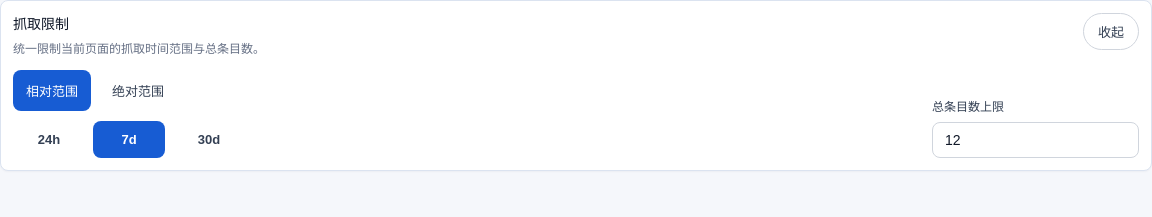
Scenario: RunLimitCard › switches between relative and absolute time modes
The width and height of the screenshot is (1152, 217).
Expected: the text "开始日期" is not shown
Click the button "绝对范围" at (138, 90), box [99,70,177,111]
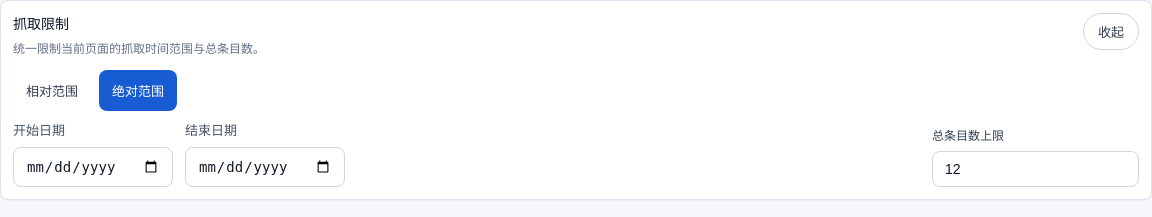
Expected: the text "开始日期" is shown, [13,121,65,139]
Expected: the text "结束日期" is shown, [185,121,237,139]
Expected: the text "24h" is gone
Click the button "相对范围" at (52, 90), box [13,70,91,111]
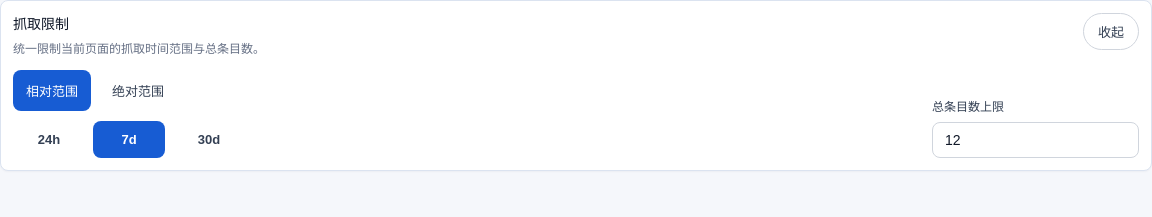
Expected: the text "24h" is shown, [13,121,85,158]
Expected: the text "7d" is shown, [93,121,165,158]
Expected: the text "开始日期" is gone
